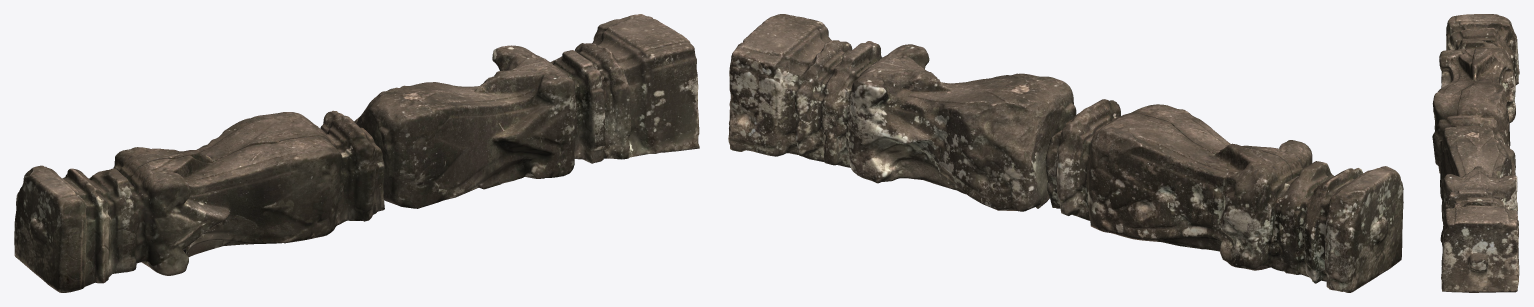
The model's file is 15_MysonSanctuaryD_Cottru_final.glb.
3 views of the same model, side by side, from view 1: azimuth 30°, elevation 25°; view 2: azimuth 150°, elevation 25°; view 3: azimuth 270°, elevation 25° (orthographic). The views are drawn at different scales.
Size of the model in its own units: 2.34 by 0.3598 by 0.3984.
Materials: 1 (1 with a texture image).
